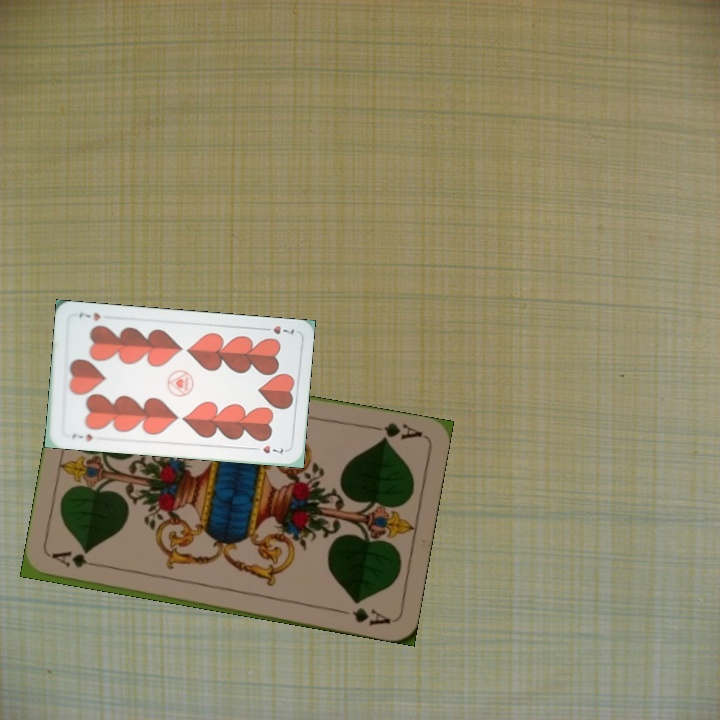GA: (366, 418, 425, 444), (48, 548, 107, 570)
H7: (258, 322, 297, 337), (68, 429, 95, 444)
